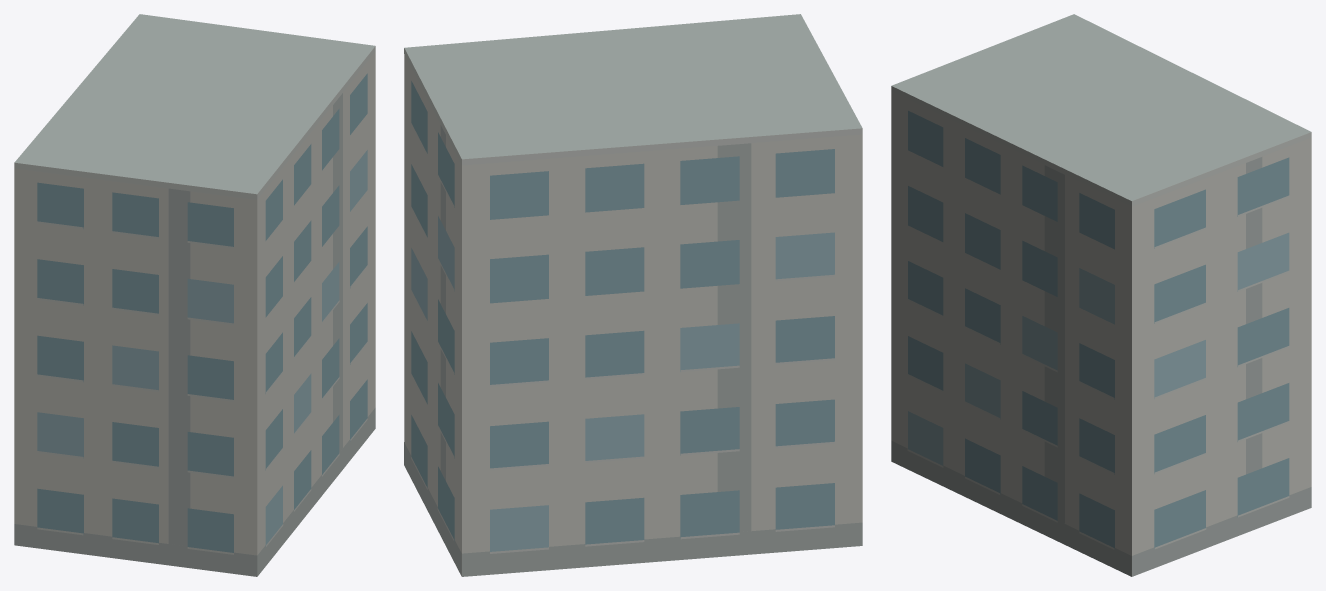
The model's file is survey-upis-32833251.glb.
The picture shows the model from 3 angles, left to right: view 1: azimuth 30°, elevation 25°; view 2: azimuth 150°, elevation 25°; view 3: azimuth 270°, elevation 25°; orthographic projection. The views are drawn at different scales.
Visible parts, largest first — view 1: survey-upis-32833251.tmp; view 2: survey-upis-32833251.tmp; view 3: survey-upis-32833251.tmp.
Part boxes in pixels (x1,y1,x2,y2): survey-upis-32833251.tmp: (14, 14, 375, 576); survey-upis-32833251.tmp: (404, 14, 862, 576); survey-upis-32833251.tmp: (891, 14, 1311, 576).
Size of the model in its own units: 17.27 by 16.15 by 16.39.
